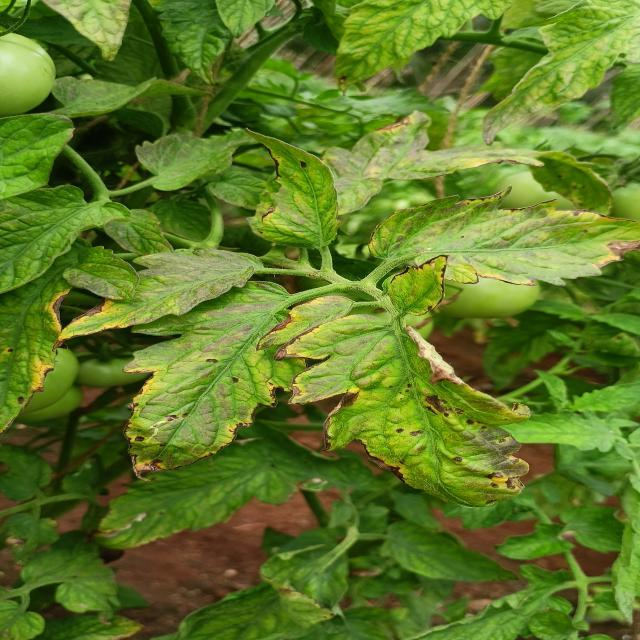Tomato mosaic virus leaf: (274, 313, 540, 512), (110, 343, 272, 487), (0, 284, 112, 434), (384, 254, 452, 317)
